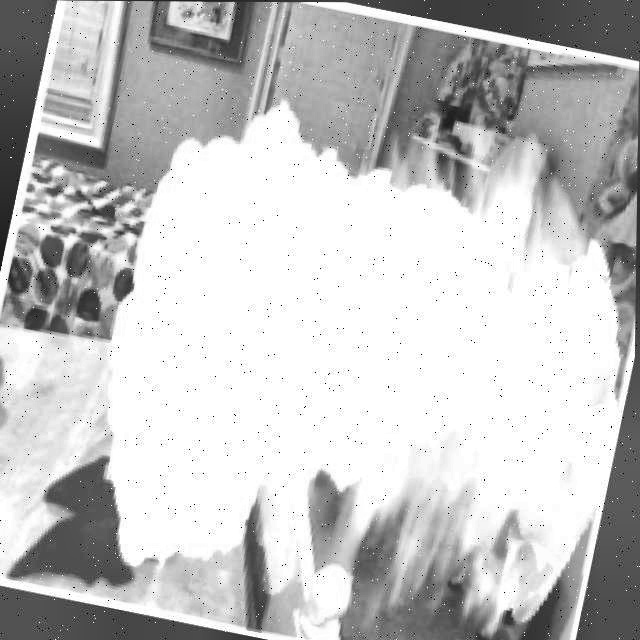Smoke: (61, 53, 638, 640)
